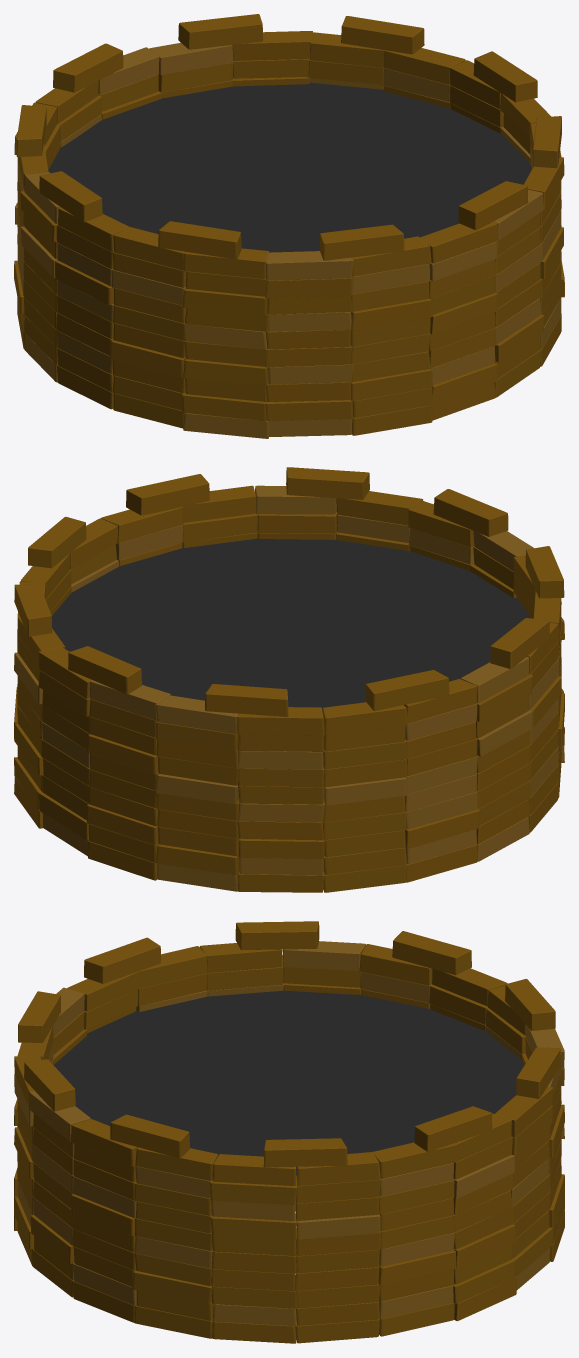
Rendered from Wall_BlockCircular.fbx.
The picture shows the model from 3 angles, top to bottom: view 1: azimuth 30°, elevation 25°; view 2: azimuth 150°, elevation 25°; view 3: azimuth 270°, elevation 25°; orthographic projection.
Parts seen in each view (by area): view 1: Cube.023, Circle.001, Cube.024; view 2: Cube.023, Circle.001, Cube.024; view 3: Cube.023, Circle.001, Cube.024.
Part boxes in pixels (<box>): Cube.023: <box>14,31,564,438</box>; Circle.001: <box>48,82,531,252</box>; Cube.024: <box>16,14,561,260</box>; Cube.023: <box>14,485,564,892</box>; Circle.001: <box>51,536,531,713</box>; Cube.024: <box>14,467,564,716</box>; Cube.023: <box>14,941,564,1343</box>; Circle.001: <box>53,990,523,1175</box>; Cube.024: <box>18,921,560,1167</box>.
Size of the model in its own units: 16.83 by 6.52 by 16.83.
